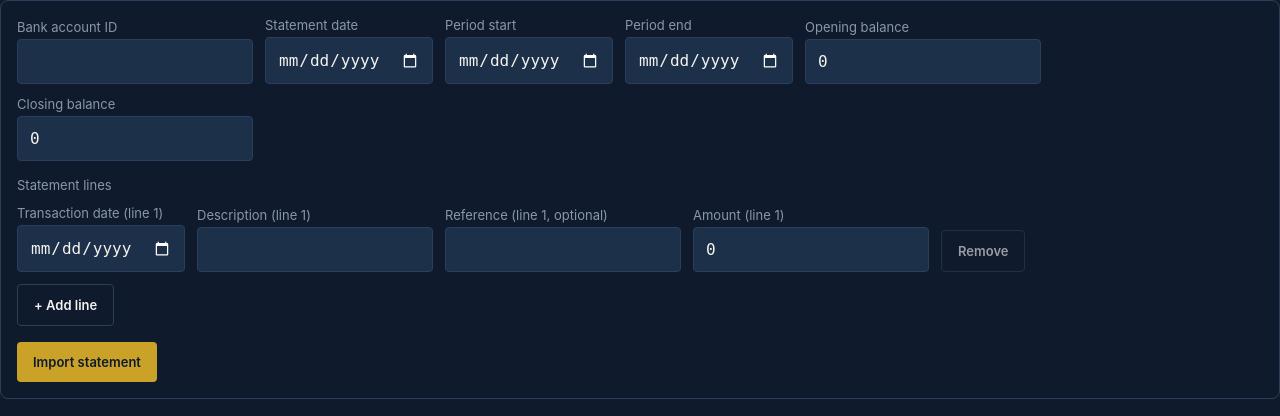
Test case: ImportStatementForm › shows the returned statement ID on success
In the field labelled "Bank account ID": (135, 62) [17,39,253,84], type "ba-1"
In the date field labelled "Statement date": (349, 60) [265,37,433,84], type "2026-07-31"
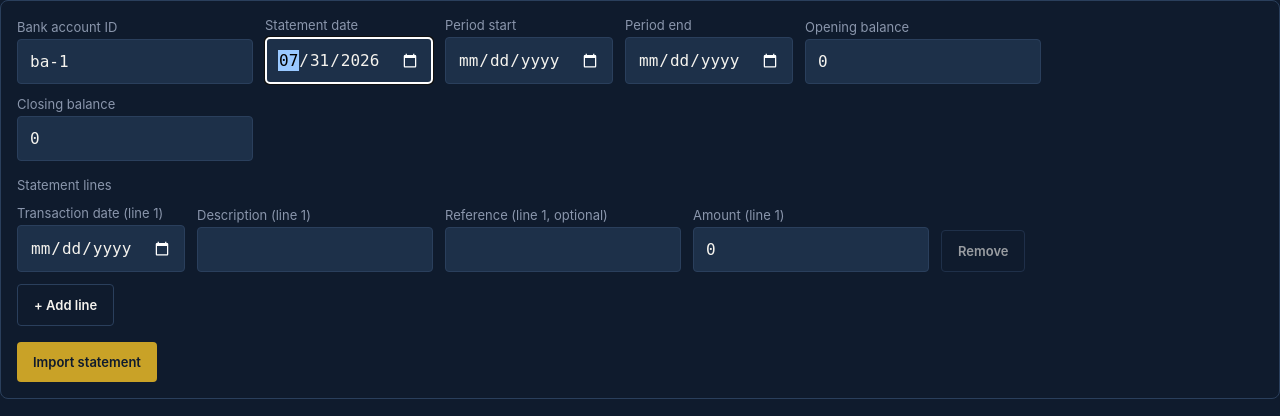
In the date field labelled "Period start": (529, 60) [445,37,613,84], type "2026-07-01"
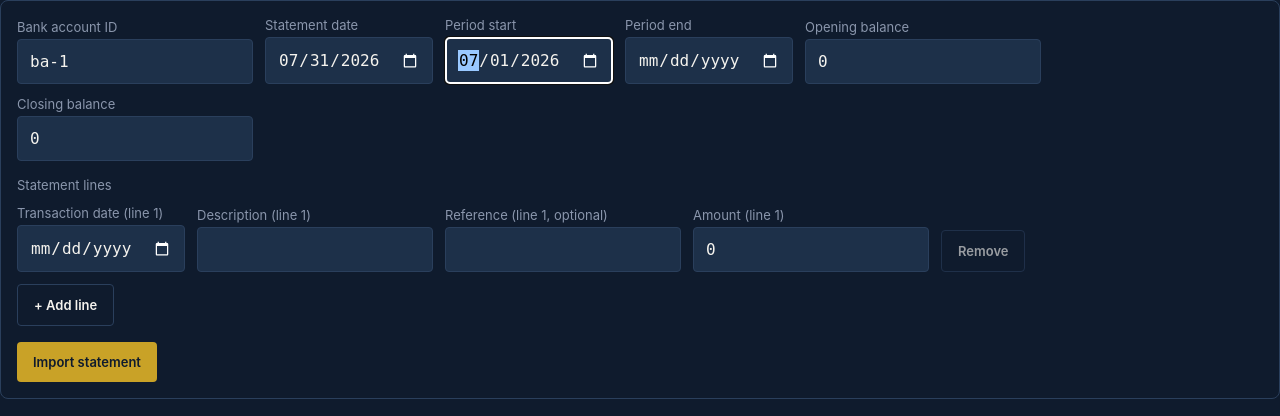
In the date field labelled "Period end": (709, 60) [625,37,793,84], type "2026-07-31"
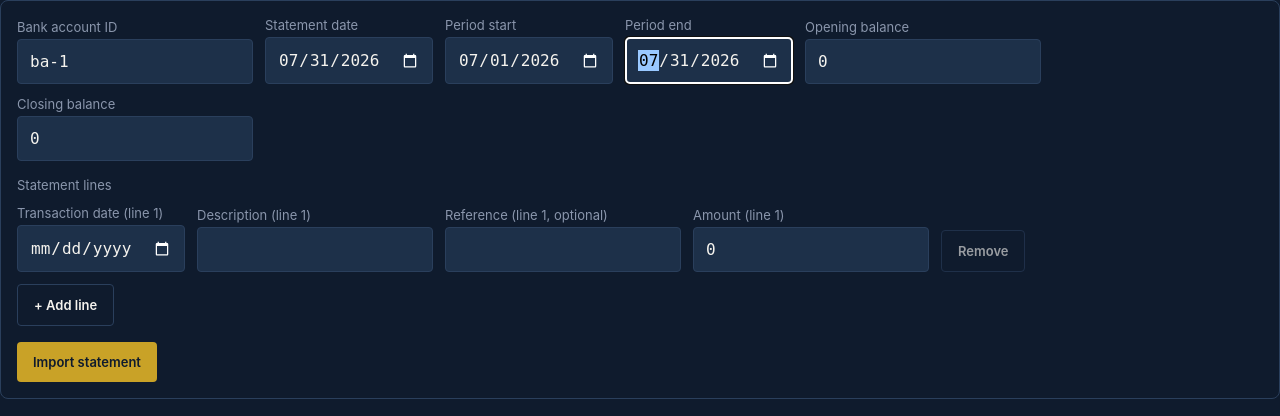
In the date field labelled "Transaction date (line 1)": (101, 248) [17,225,185,272], type "2026-07-15"
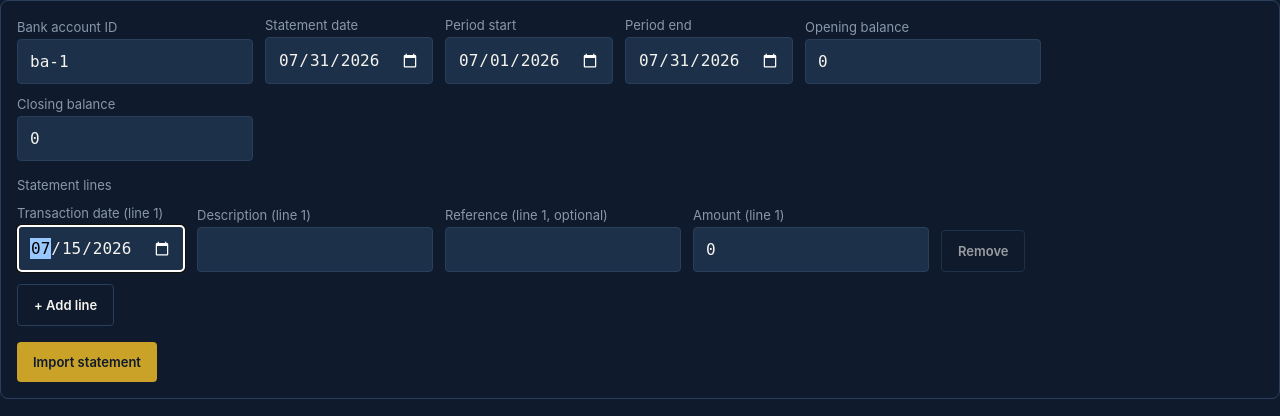
In the field labelled "Description (line 1)": (315, 250) [197,227,433,272], type "Wire in"
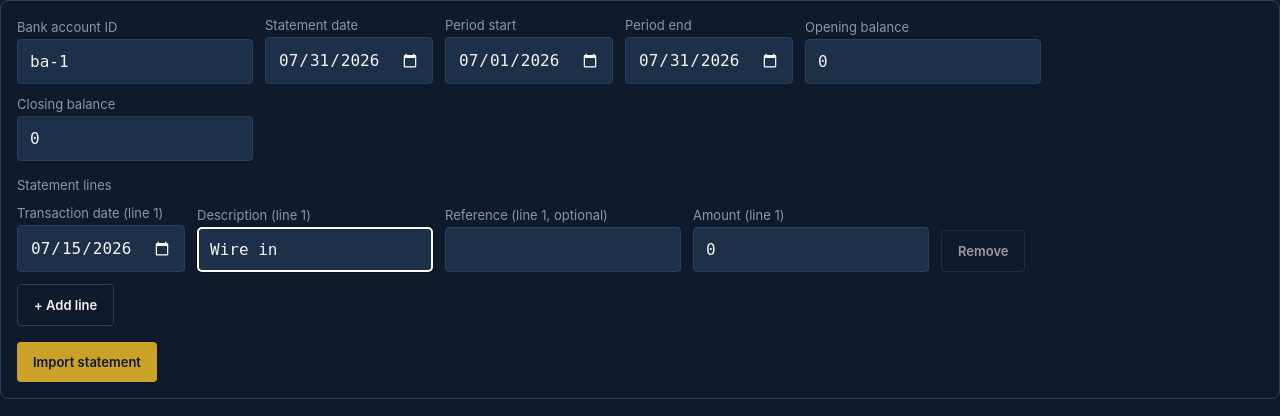
Click the button "Import statement": (87, 362) [17,342,157,382]
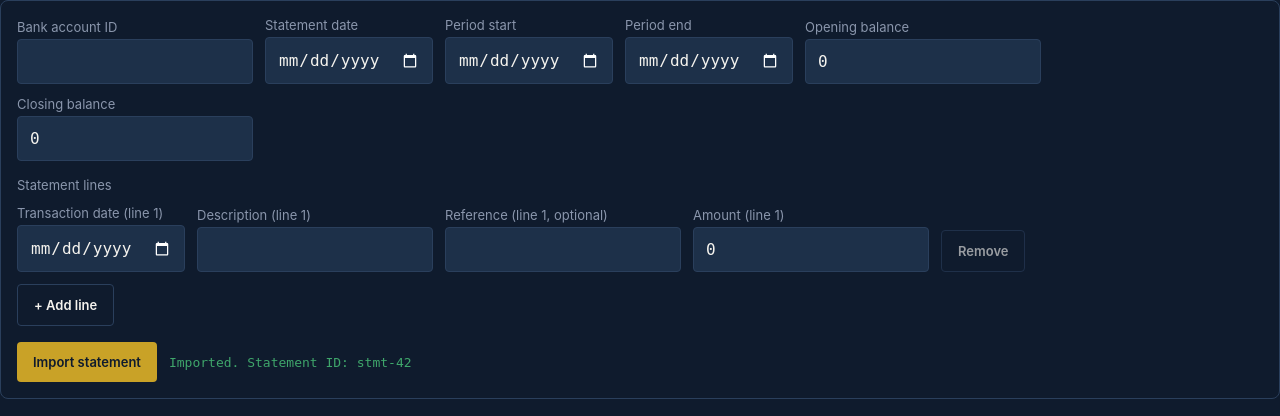
Expected: the text "Imported. Statement ID: stmt-42" is shown, [169,354,412,370]
